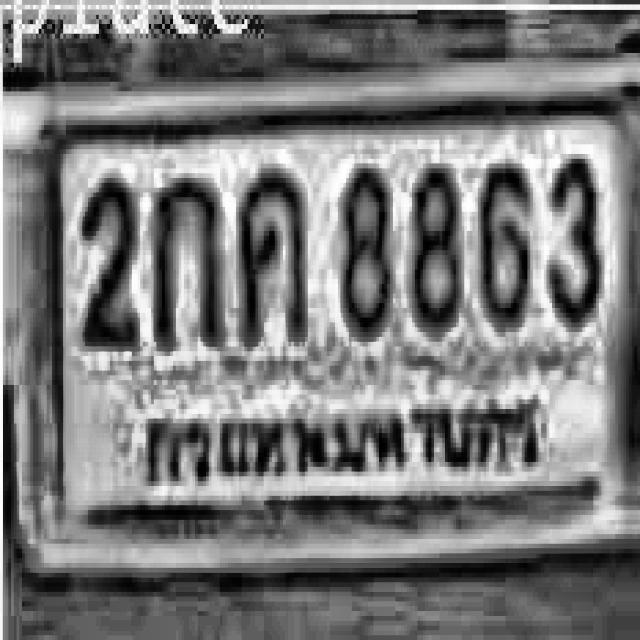license-plate: (10, 88, 640, 559)
